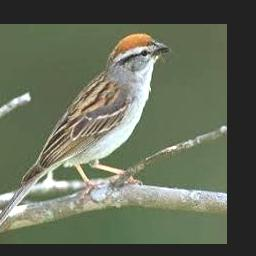Sparrow: (0, 32, 171, 238)
